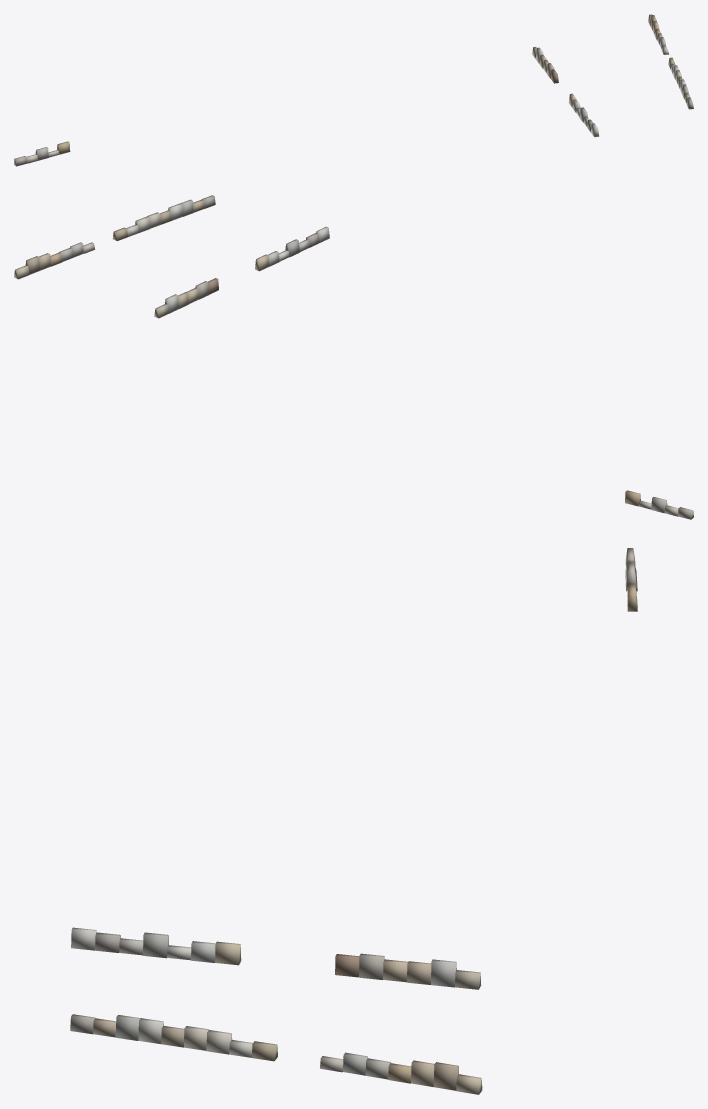
File: farm_33_27_collision.glb
3 views of the same model, one above another, from view 1: azimuth 30°, elevation 25°; view 2: azimuth 150°, elevation 25°; view 3: azimuth 270°, elevation 25° (orthographic). The views are drawn at different scales.
Parts seen in each view (by area): view 1: geometry_0; view 2: geometry_0; view 3: geometry_0.
Boxes of the visible parts, box(x1,y1,x2,y2) form: geometry_0: box(14, 14, 693, 166); geometry_0: box(14, 195, 693, 519); geometry_0: box(70, 548, 637, 1094).
Bounding box in the file's own units: 87.23 × 5.22 × 35.72.
